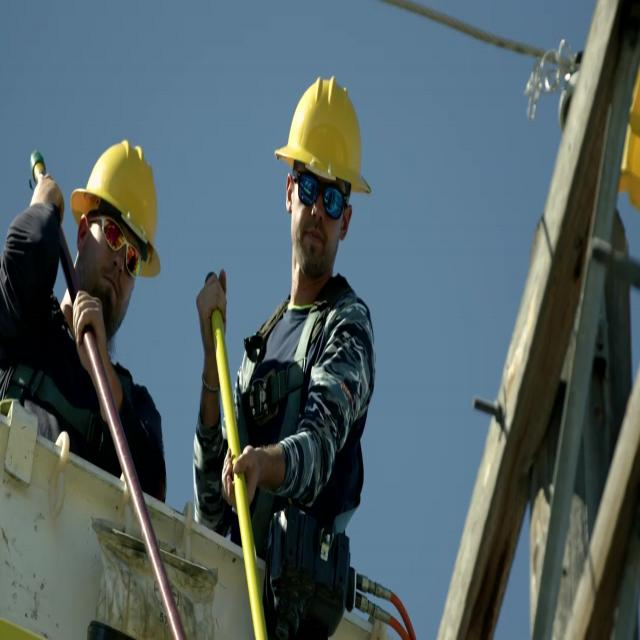Safety-Helmet: (275, 70, 372, 198), (72, 134, 165, 262)
